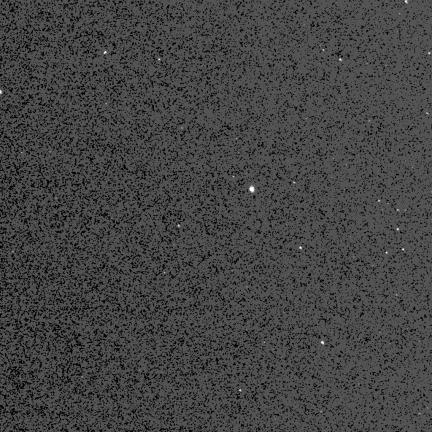blob: (249, 186, 254, 192), (321, 341, 325, 345), (397, 228, 400, 231), (300, 247, 303, 250), (402, 249, 405, 251), (386, 252, 388, 254)
